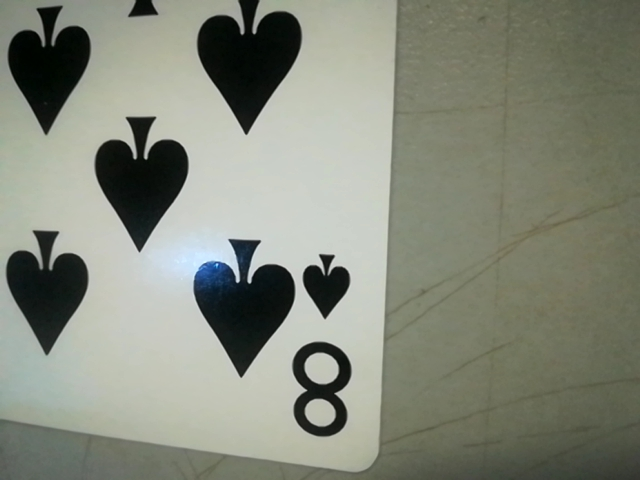ht 8: (285, 235, 370, 451)
